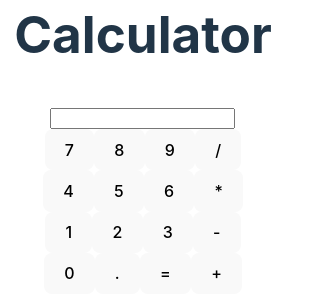
Test: Calculator › should show user input after clicking several numbers
The width and height of the screenshot is (320, 296).
Click the text "1": {"x": 69, "y": 232} [45,212,92,253]
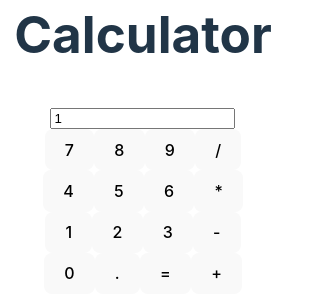
Click the text "2": {"x": 117, "y": 232} [92,212,142,253]
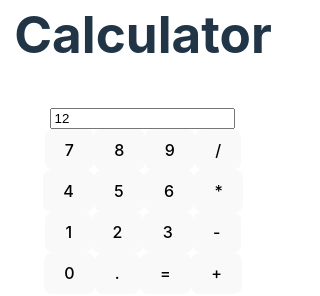
Click the text "3": {"x": 168, "y": 232} [142,212,193,253]
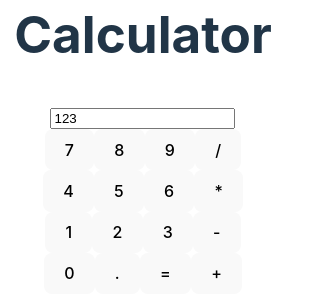
Result: the field holds "123" at [50,108,236,129]
